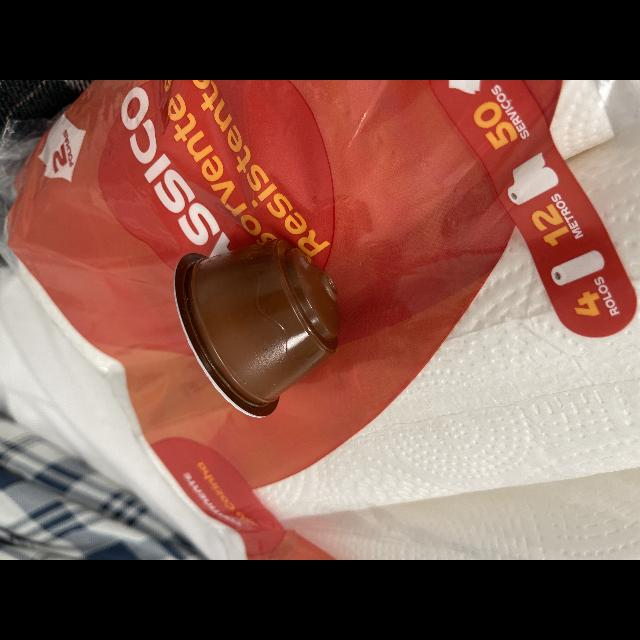intact_capsule: (166, 235, 354, 422)
